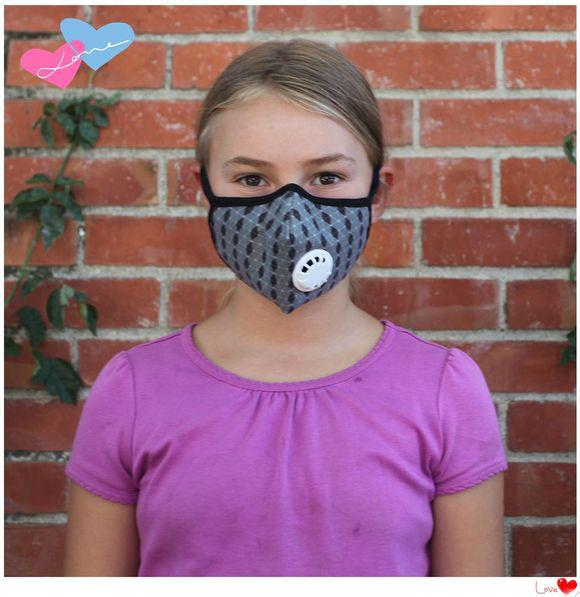OK: (213, 148, 374, 309)
